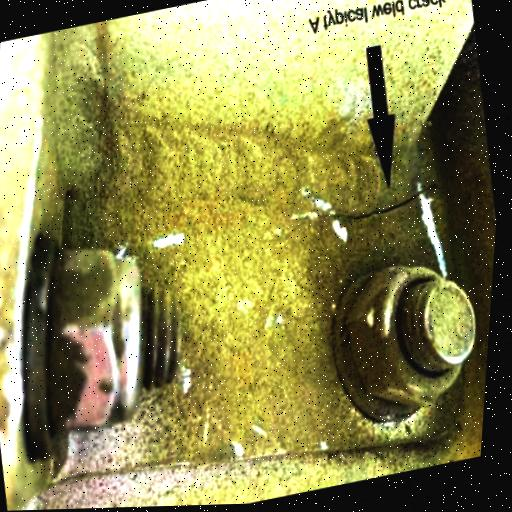crack: (337, 185, 436, 218)
